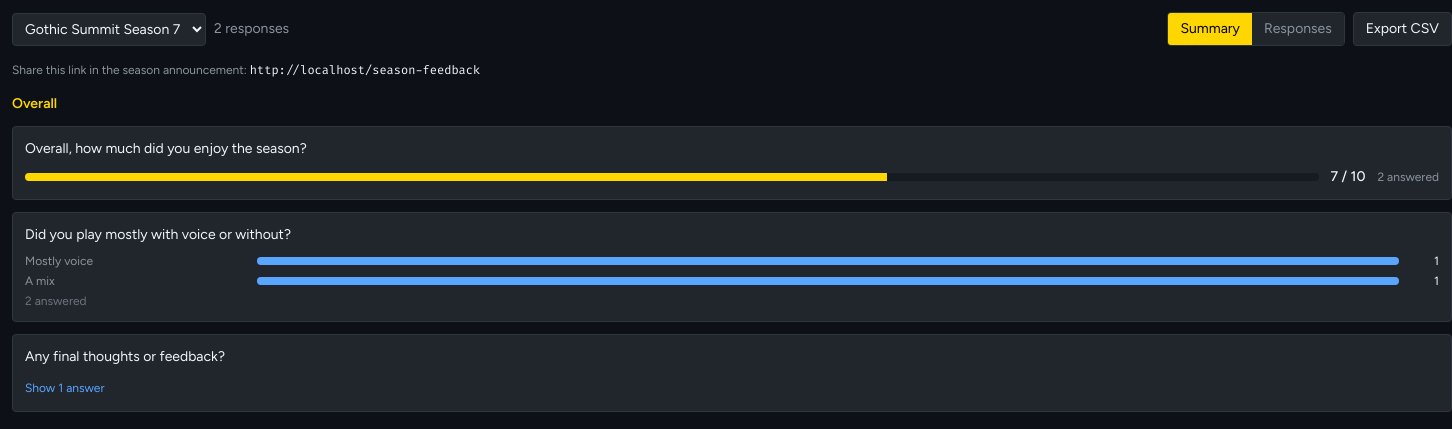
SeasonFeedbackSection › reloads when a different season is chosen
Expected: the text "2 responses" is shown, [214,19,289,39]
Select "Gothic Summit Season 6" in the dropdown named "Season" at {"x": 109, "y": 29}, box [12,12,206,46]
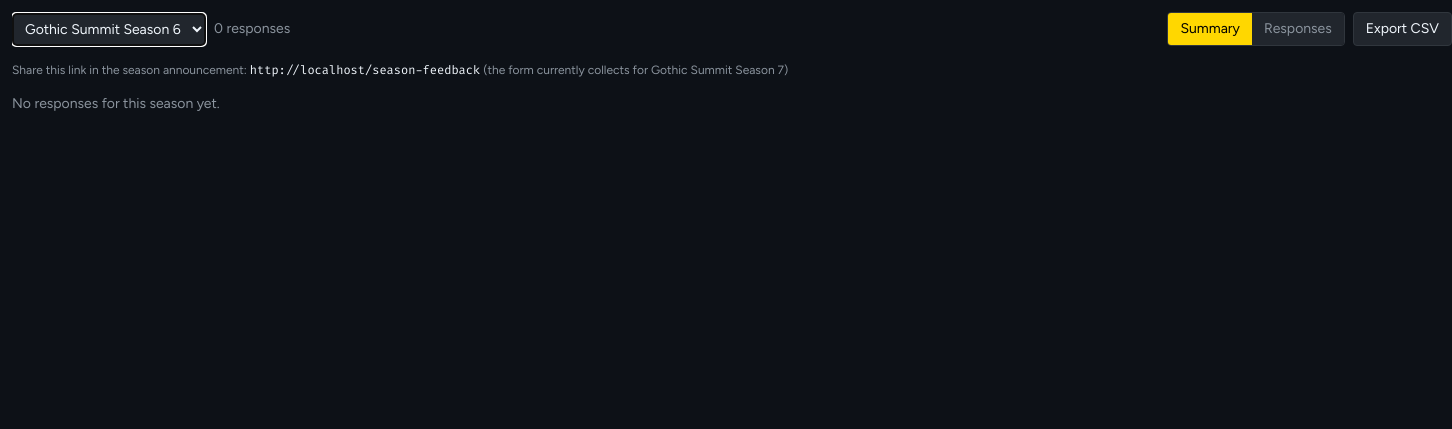
Result: the text "No responses for this season yet." is shown at [12,95,220,112]
